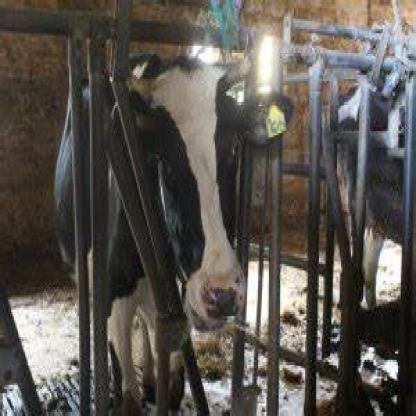cow: (54, 75, 283, 399)
